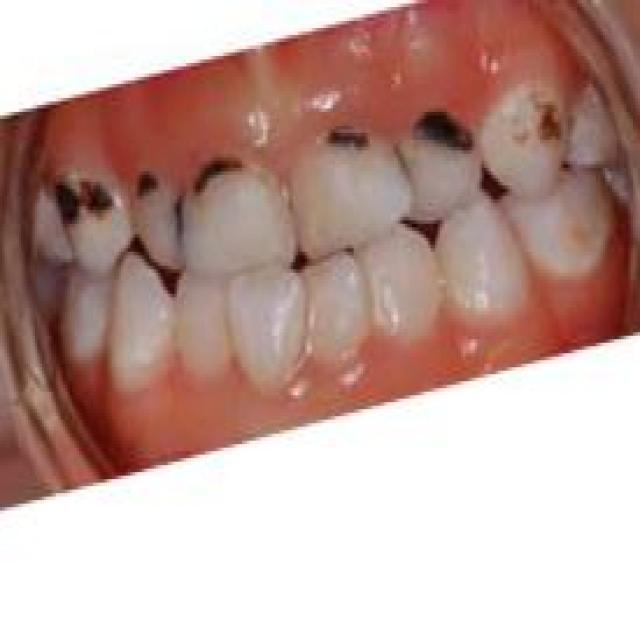caries: (502, 77, 576, 174), (397, 95, 483, 174), (52, 161, 124, 246), (187, 144, 256, 216), (316, 107, 387, 166), (134, 163, 170, 220)
